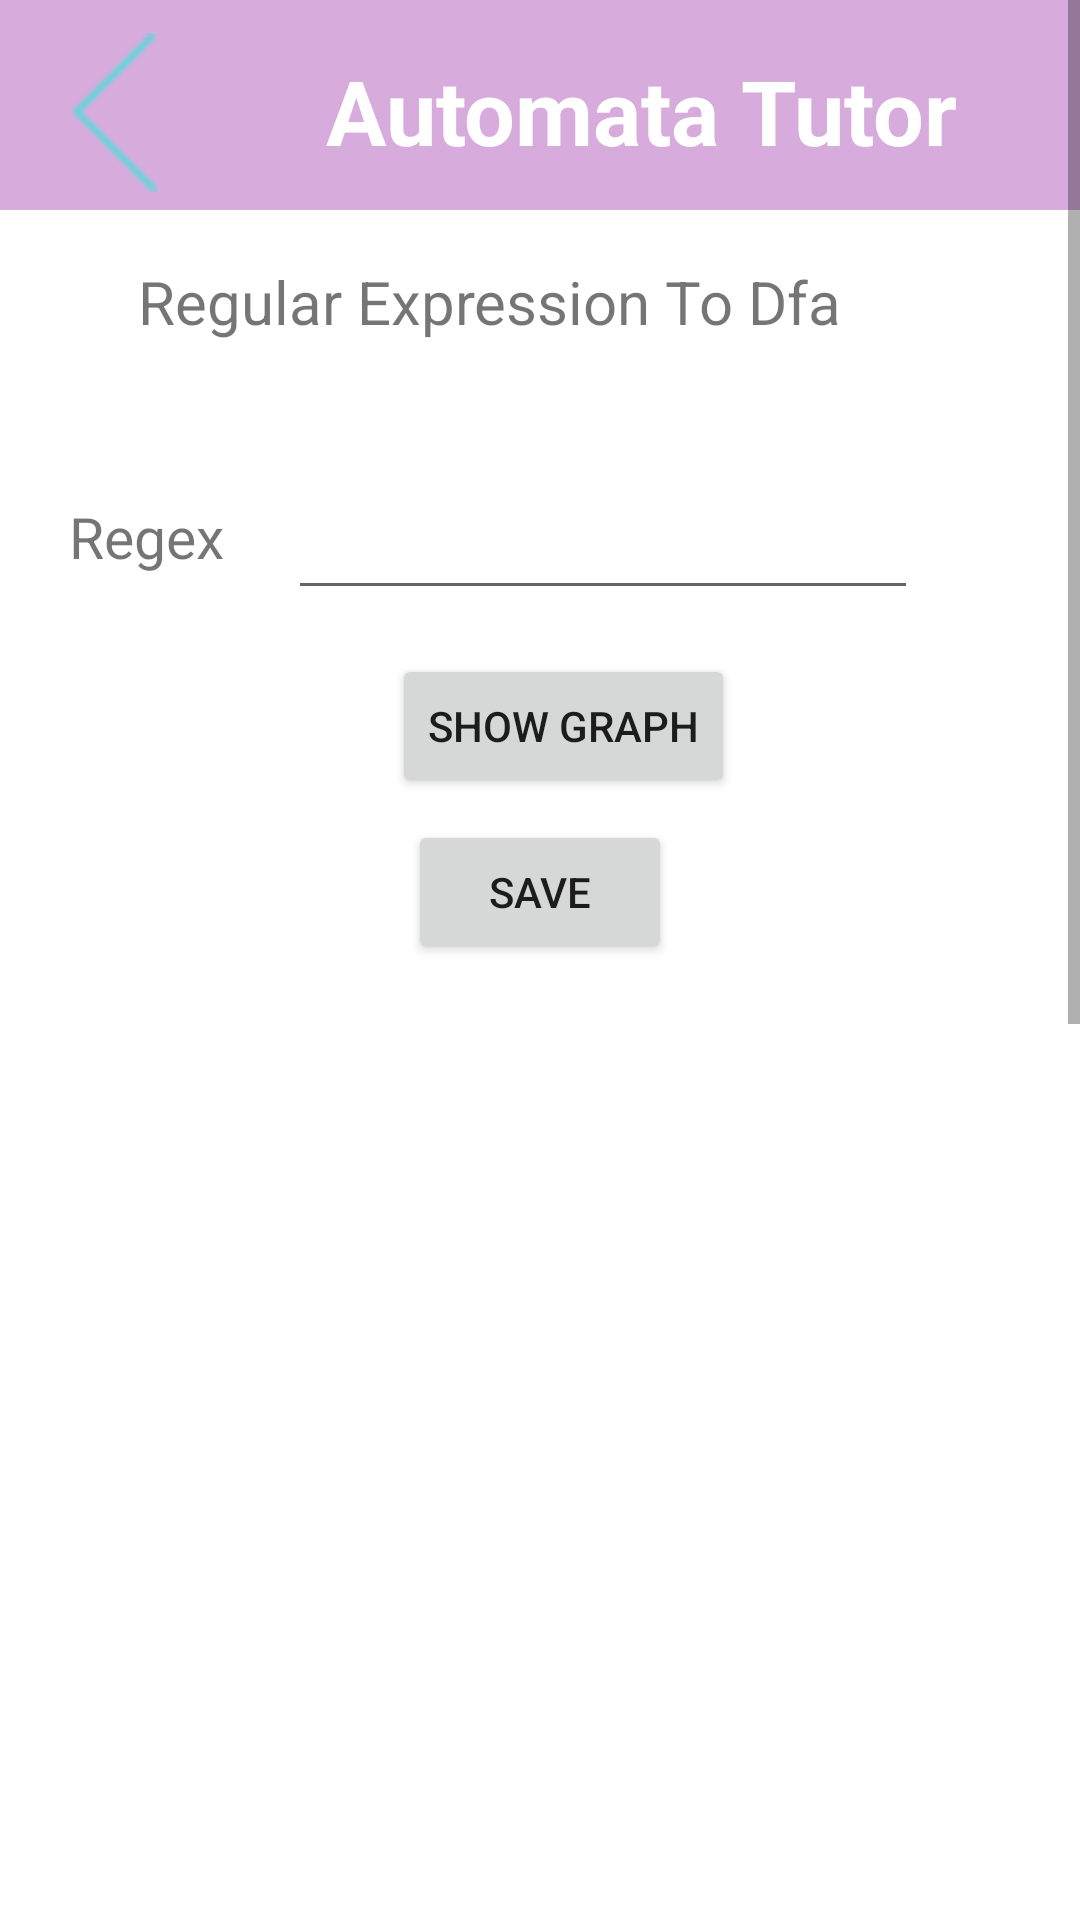

Where to tap for icons on this 1080 × 1920 app screen, as (x,y):
backiconimg: (115,112)
